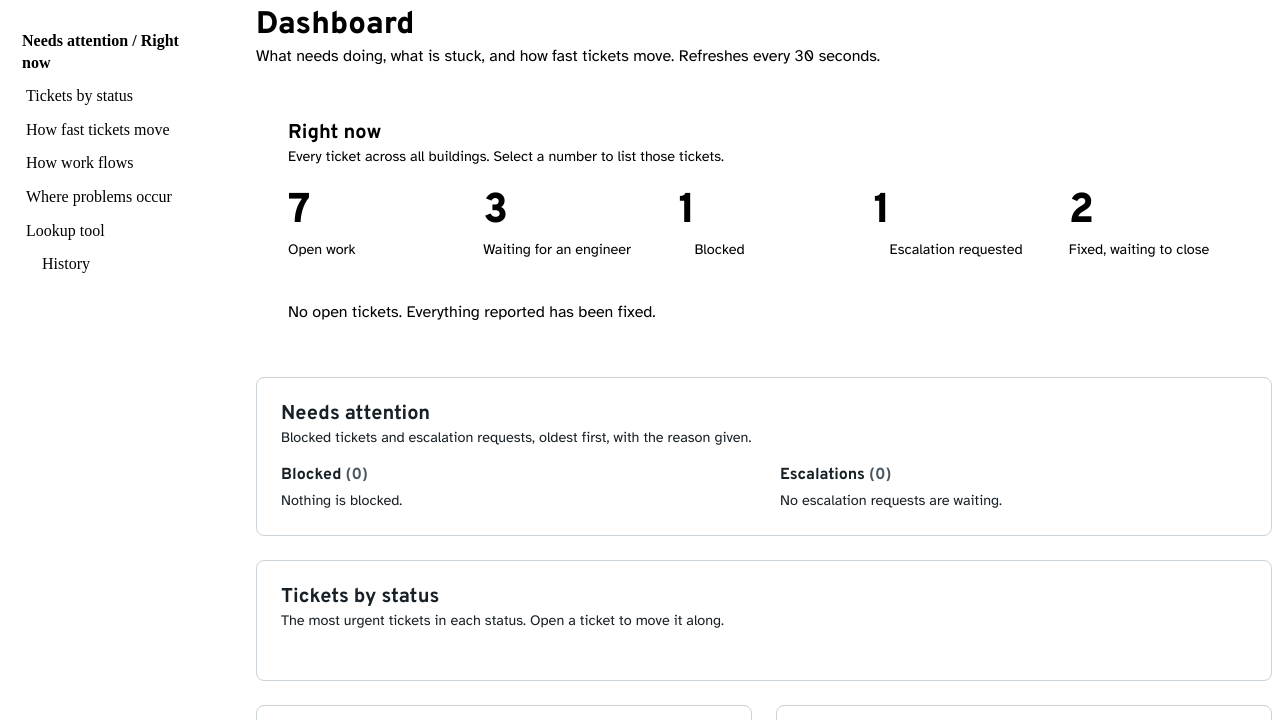
Scenario: Right now figures open the tickets behind them › pages through long lists, 20 at a time, and the title follows the server total
Click the button named "Open work". click: coordinates (299, 212)
box: x1=288 y1=191 x2=310 y2=233
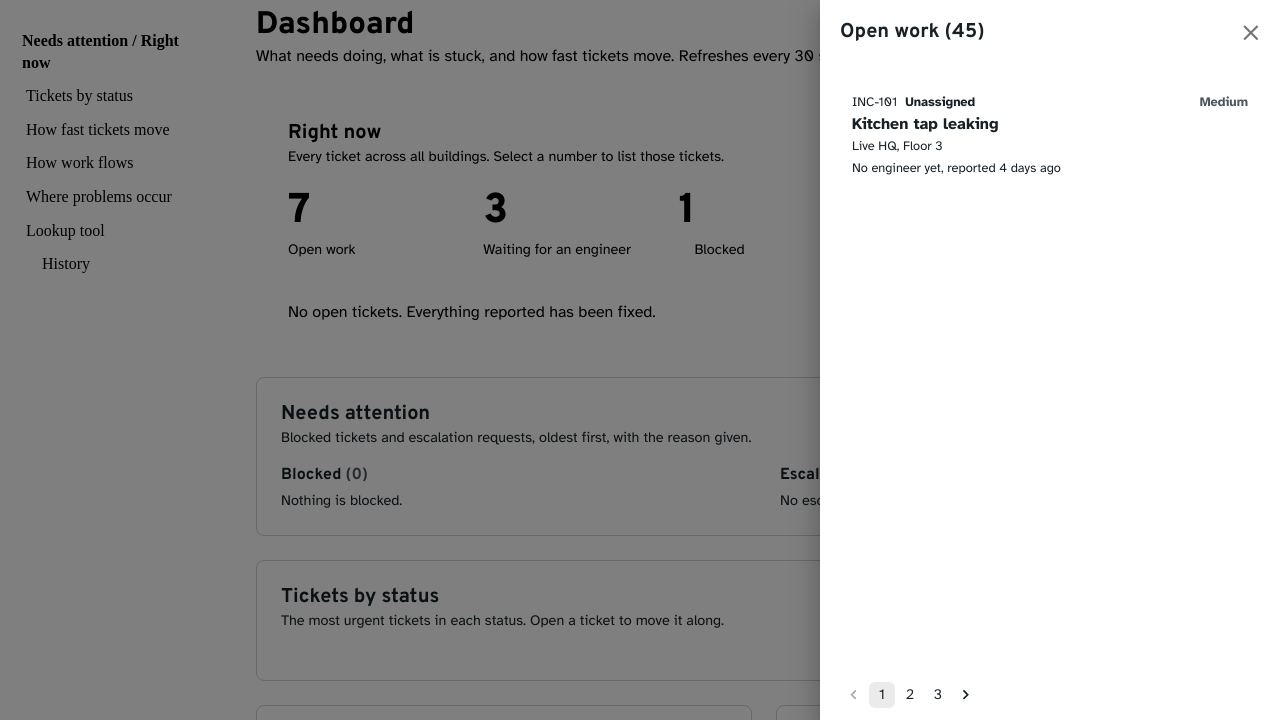
Click the button named "Go to page 3". click: coordinates (938, 695)
box: x1=925 y1=682 x2=951 y2=708
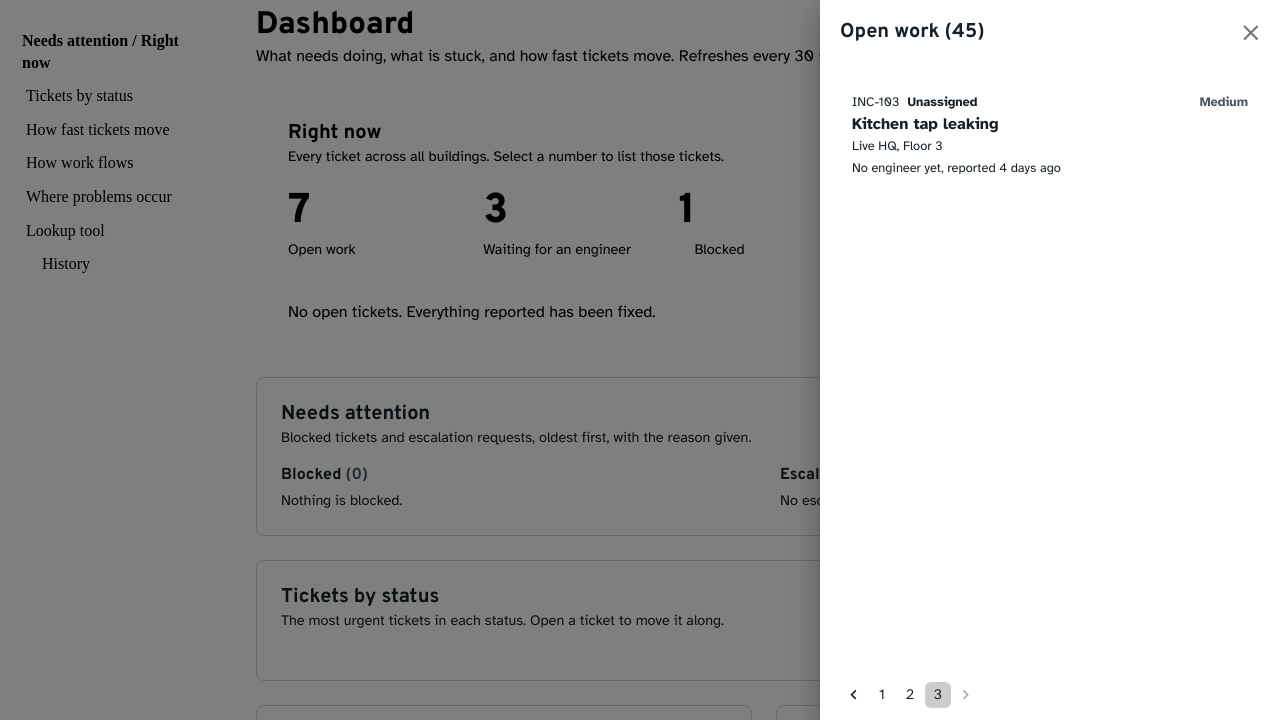
Expected: the link "INC-103" is shown, x1=840 y1=82 x2=1260 y2=190
